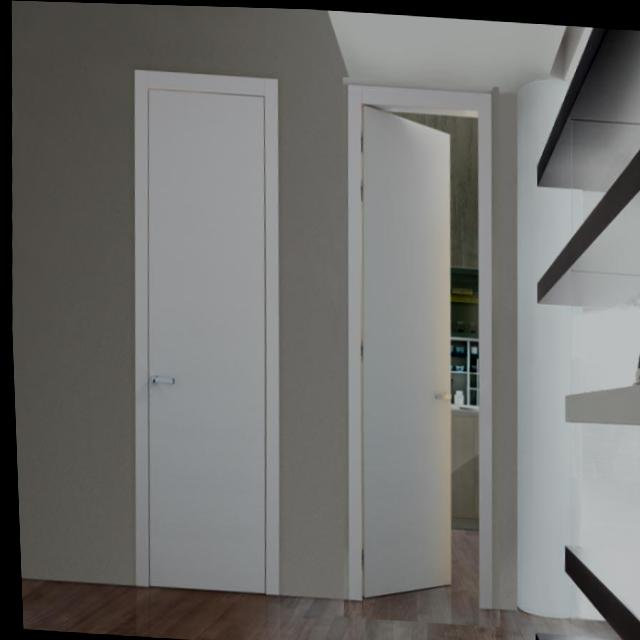close: (111, 54, 299, 606)
semi-open: (323, 74, 515, 625)
